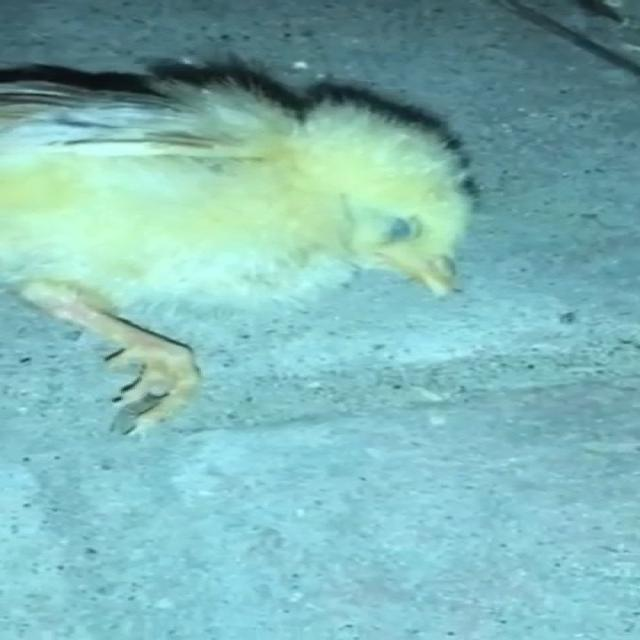abnormal chicken: (0, 54, 480, 428)
